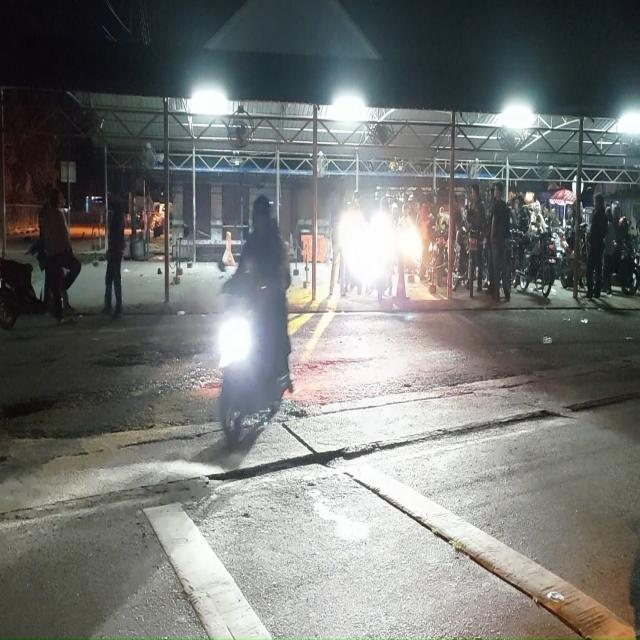Golongan II: (219, 295, 290, 445), (0, 258, 46, 329), (517, 230, 556, 298), (366, 212, 394, 301), (340, 217, 368, 294), (559, 223, 588, 289), (612, 238, 640, 295), (452, 225, 472, 295), (429, 230, 448, 288), (467, 229, 482, 298)
